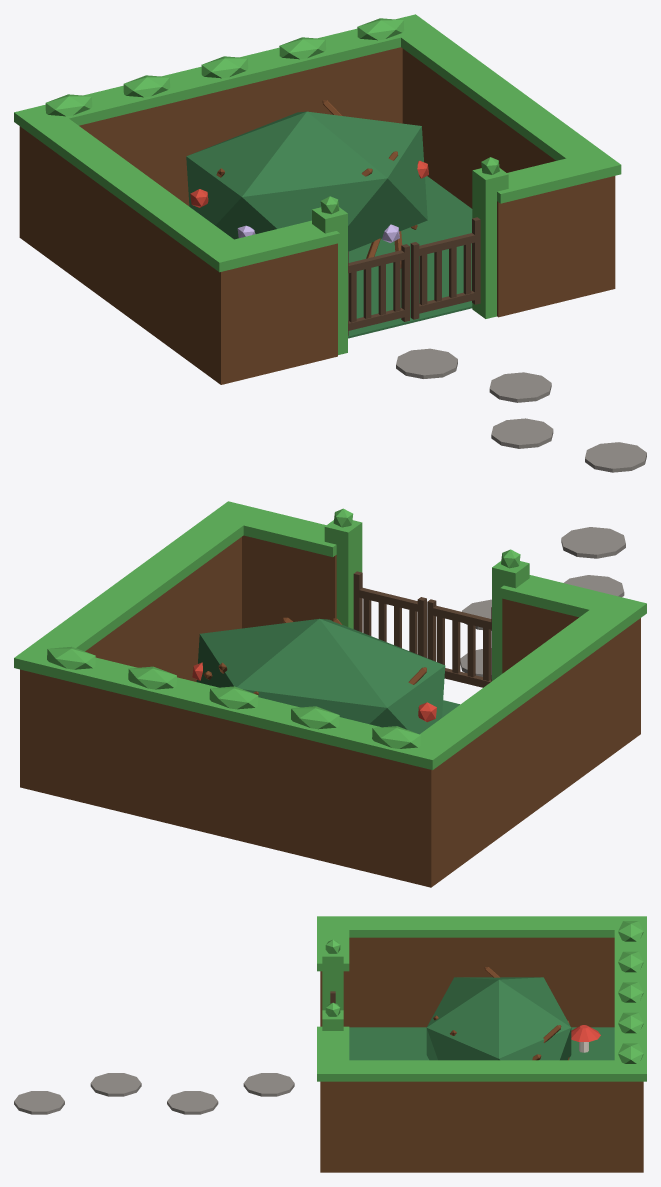
Rendered from CatCafe_Nook_Woods.glb.
3 views of the same model, one above another, from view 1: azimuth 30°, elevation 25°; view 2: azimuth 150°, elevation 25°; view 3: azimuth 270°, elevation 25° (orthographic). The views are drawn at different scales.
Visible parts, largest first — view 1: CatCafe_Nook_Woods, CatCafe_Nook_Woods_Trap, CatCafe_Nook_Woods_Decor, CatCafe_Nook_Woods_GateL, CatCafe_Nook_Woods_GateR; view 2: CatCafe_Nook_Woods, CatCafe_Nook_Woods_Trap, CatCafe_Nook_Woods_Decor, CatCafe_Nook_Woods_GateR, CatCafe_Nook_Woods_GateL; view 3: CatCafe_Nook_Woods, CatCafe_Nook_Woods_Trap, CatCafe_Nook_Woods_Decor.
Part boxes in pixels (bbox=[...]): CatCafe_Nook_Woods: bbox=[14, 14, 621, 384]; CatCafe_Nook_Woods_Trap: bbox=[186, 100, 428, 268]; CatCafe_Nook_Woods_Decor: bbox=[348, 176, 646, 472]; CatCafe_Nook_Woods_GateL: bbox=[410, 217, 480, 319]; CatCafe_Nook_Woods_GateR: bbox=[348, 244, 409, 335]; CatCafe_Nook_Woods: bbox=[14, 501, 646, 887]; CatCafe_Nook_Woods_Trap: bbox=[192, 617, 445, 734]; CatCafe_Nook_Woods_Decor: bbox=[442, 527, 625, 717]; CatCafe_Nook_Woods_GateR: bbox=[427, 599, 491, 687]; CatCafe_Nook_Woods_GateL: bbox=[353, 571, 426, 657]; CatCafe_Nook_Woods: bbox=[317, 916, 646, 1172]; CatCafe_Nook_Woods_Trap: bbox=[426, 967, 571, 1060]; CatCafe_Nook_Woods_Decor: bbox=[14, 1027, 614, 1114].
Bounding box in the file's own units: 8.76 × 3.42 × 14.88.
1 material, 1 textured.
